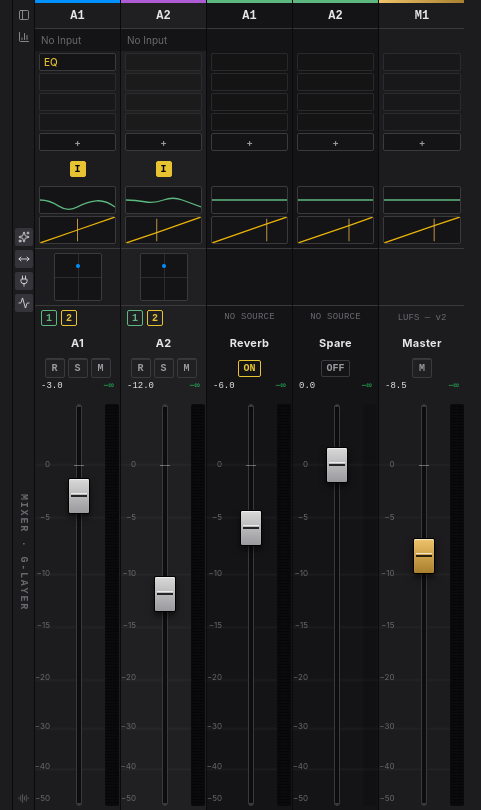
Test: R23-WC D-C3 (#70): master/bus bank meters-only collapse › collapsing the bank swaps aux/master STRIPS for meters-only columns; the CHANNEL strips stay full (#70 independence)
Click the button with test id "mixer-masterbus-toggle": click(24, 37) x1=14 y1=28 x2=32 y2=46
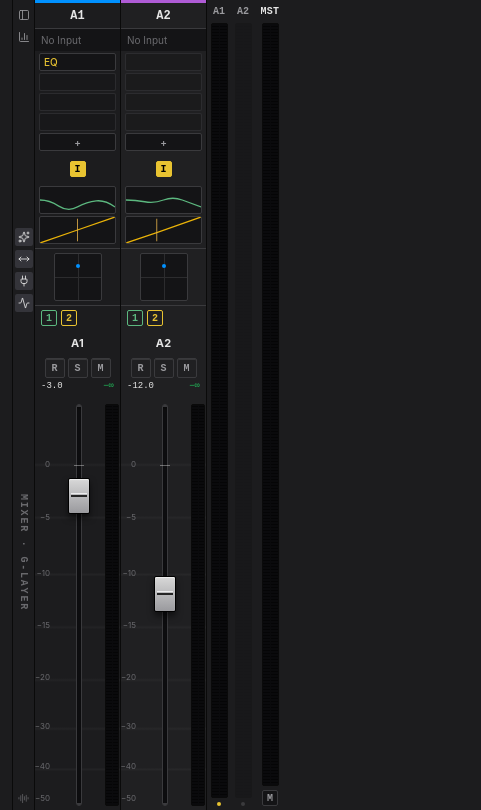
Result: the element with test id "mixer-strip-aux-a1" is gone
Result: the element with test id "mixer-strip-aux-a2" is gone
Result: the element with test id "mixer-strip-master" is gone
